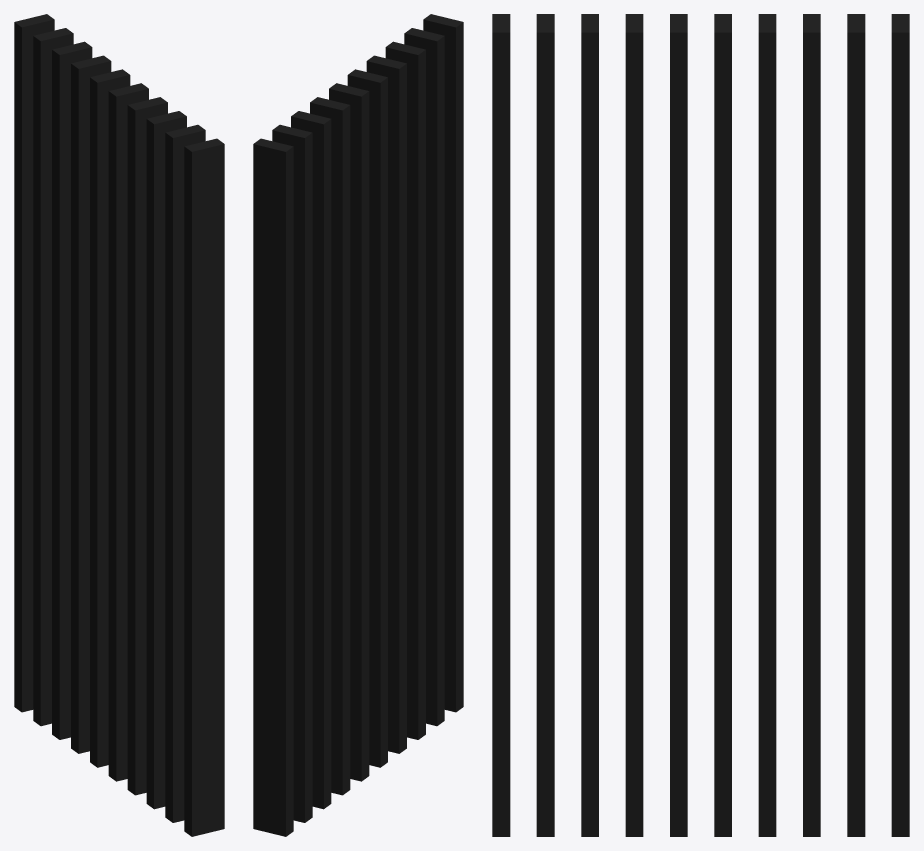
File: SM_Build_Pallisade_2.fbx
3 views of the same model, side by side, from view 1: azimuth 30°, elevation 25°; view 2: azimuth 150°, elevation 25°; view 3: azimuth 270°, elevation 25° (orthographic). The views are drawn at different scales.
Visible parts, largest first — view 1: Pallisade 2.001; view 2: Pallisade 2.001; view 3: Pallisade 2.001.
Boxes of the visible parts, x1,y1,x2,y2 form: Pallisade 2.001: (14, 14, 224, 836); Pallisade 2.001: (253, 14, 463, 836); Pallisade 2.001: (492, 14, 909, 836).
Bounding box in the file's own units: 0.2 × 4 × 1.88.
